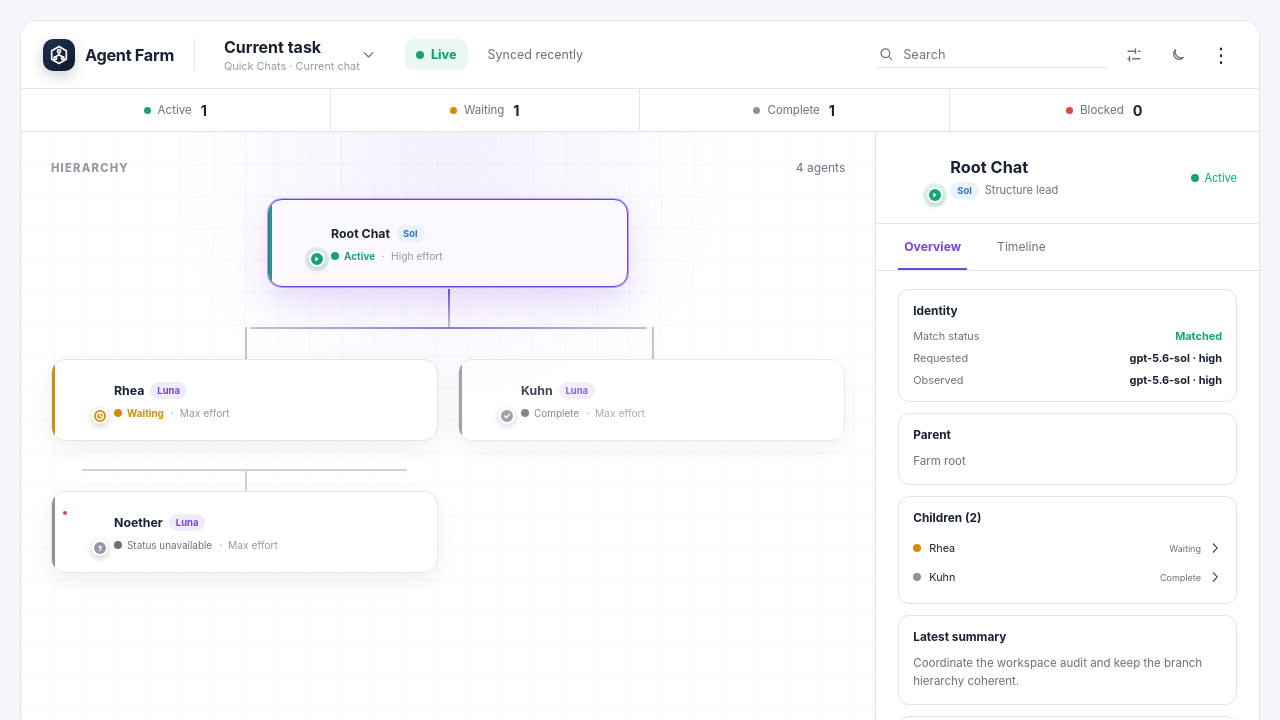
Test case: AgentFarmApp › pauses launcher-focus polling while a manual first sync is pending
Click the button "Current task Quick Chats · Current chat": (300, 54) [215, 30, 385, 80]
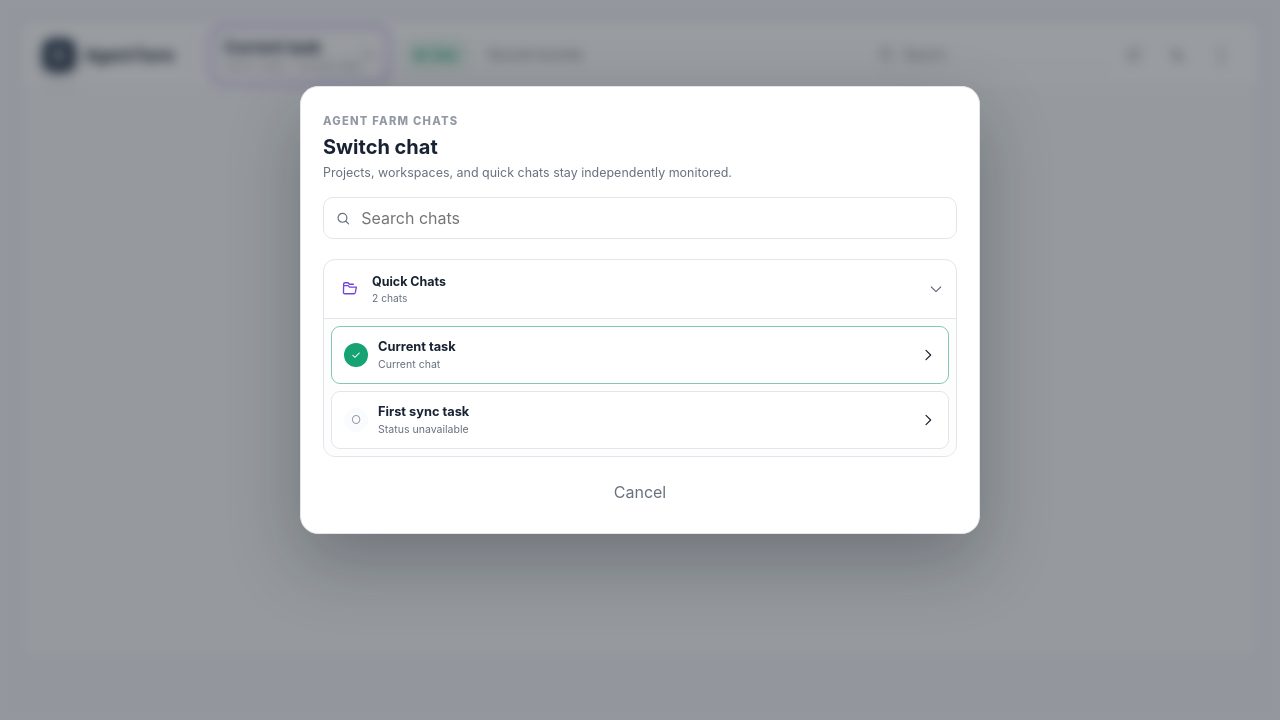
Click the button "○ First sync task Status unavailable": (424, 412) [331, 391, 949, 449]
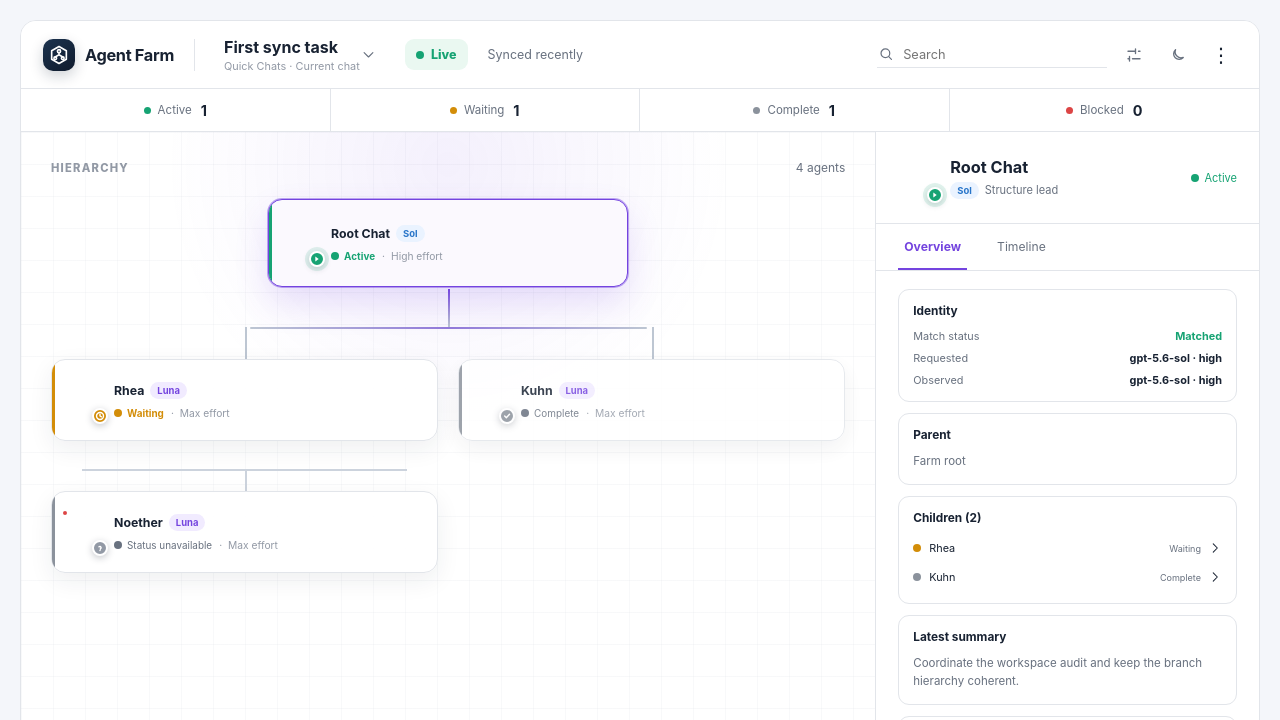
Expected: the heading "Switch chat" is gone
